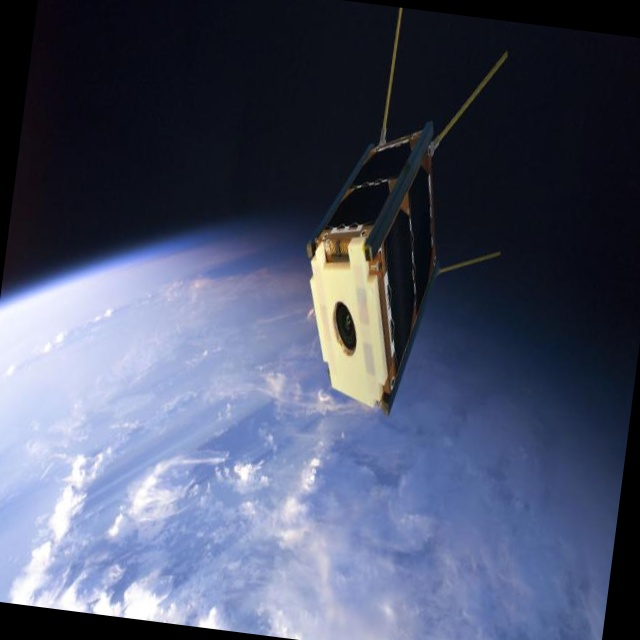satellite: (282, 9, 529, 430)
